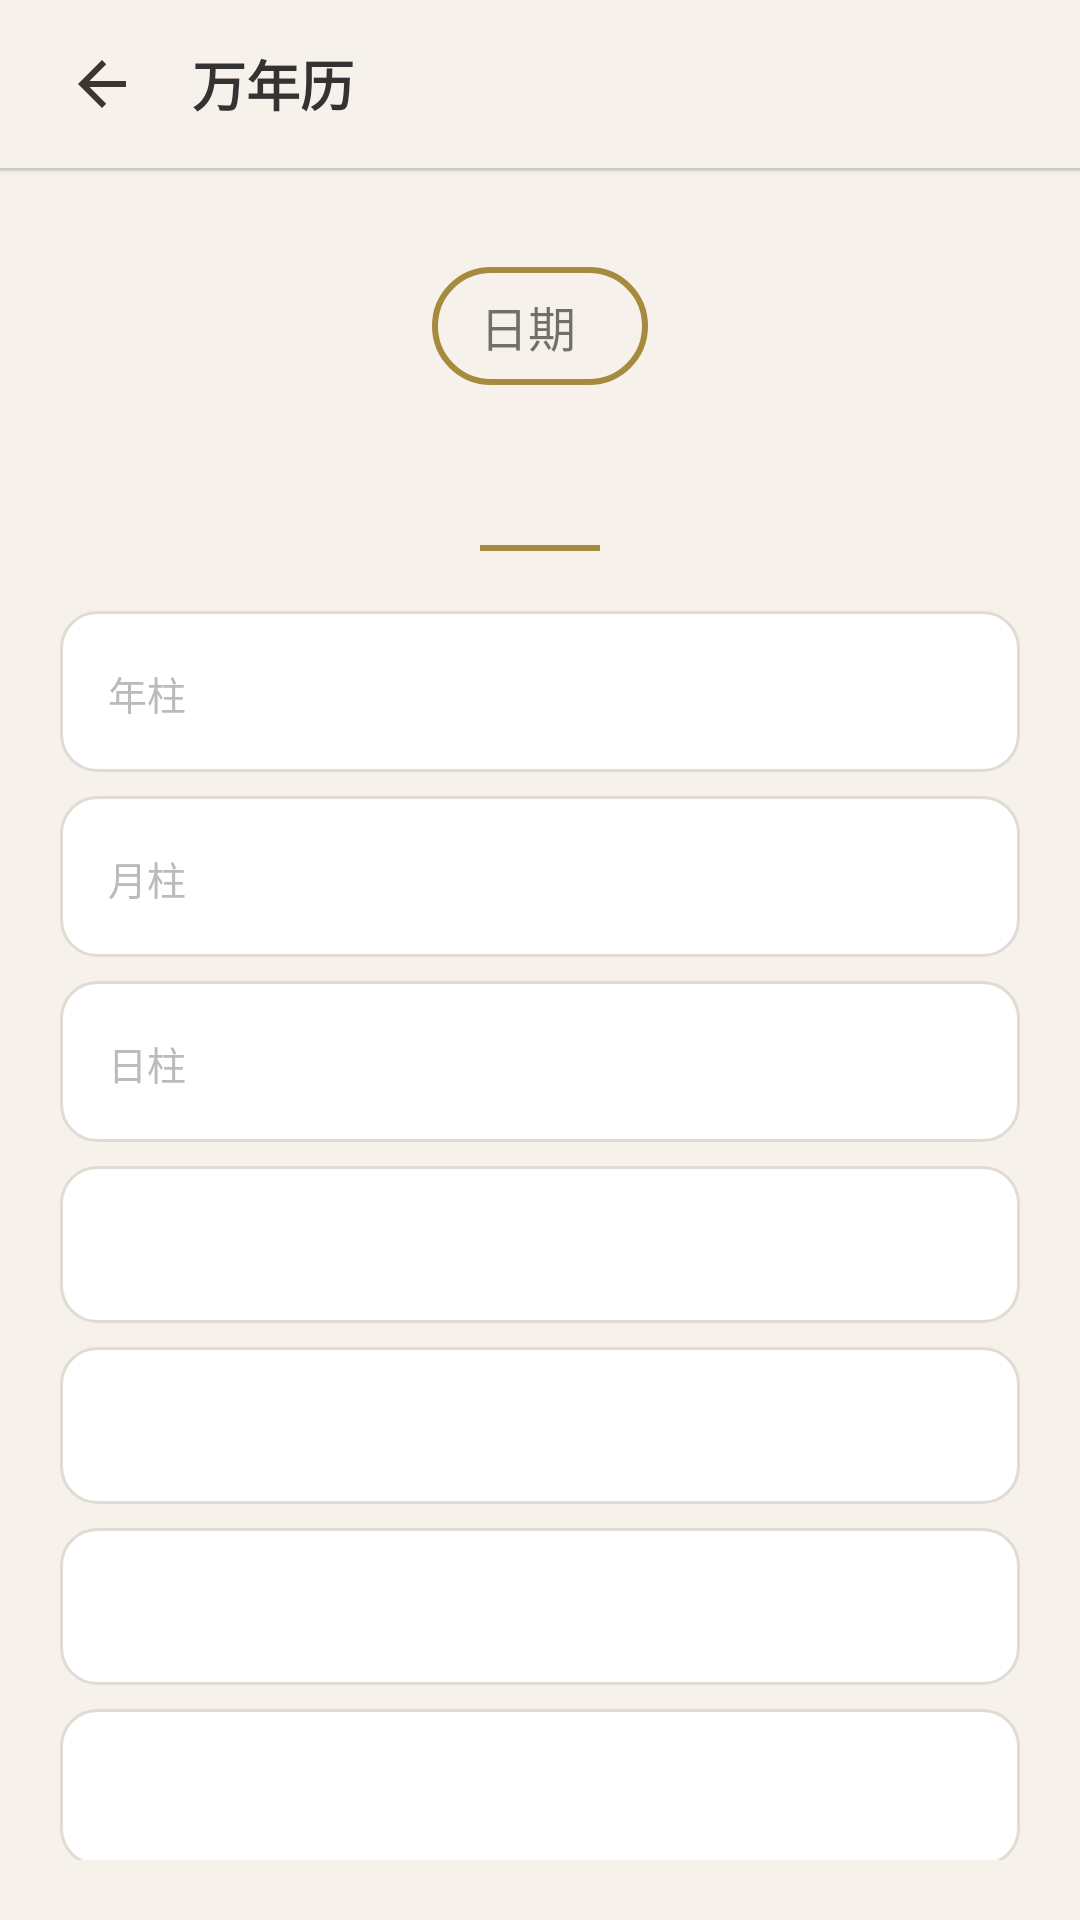

Icon click points for this 1080x1920 phone screenshot, format (x=x, y=y):
返回: (x=102, y=84)
